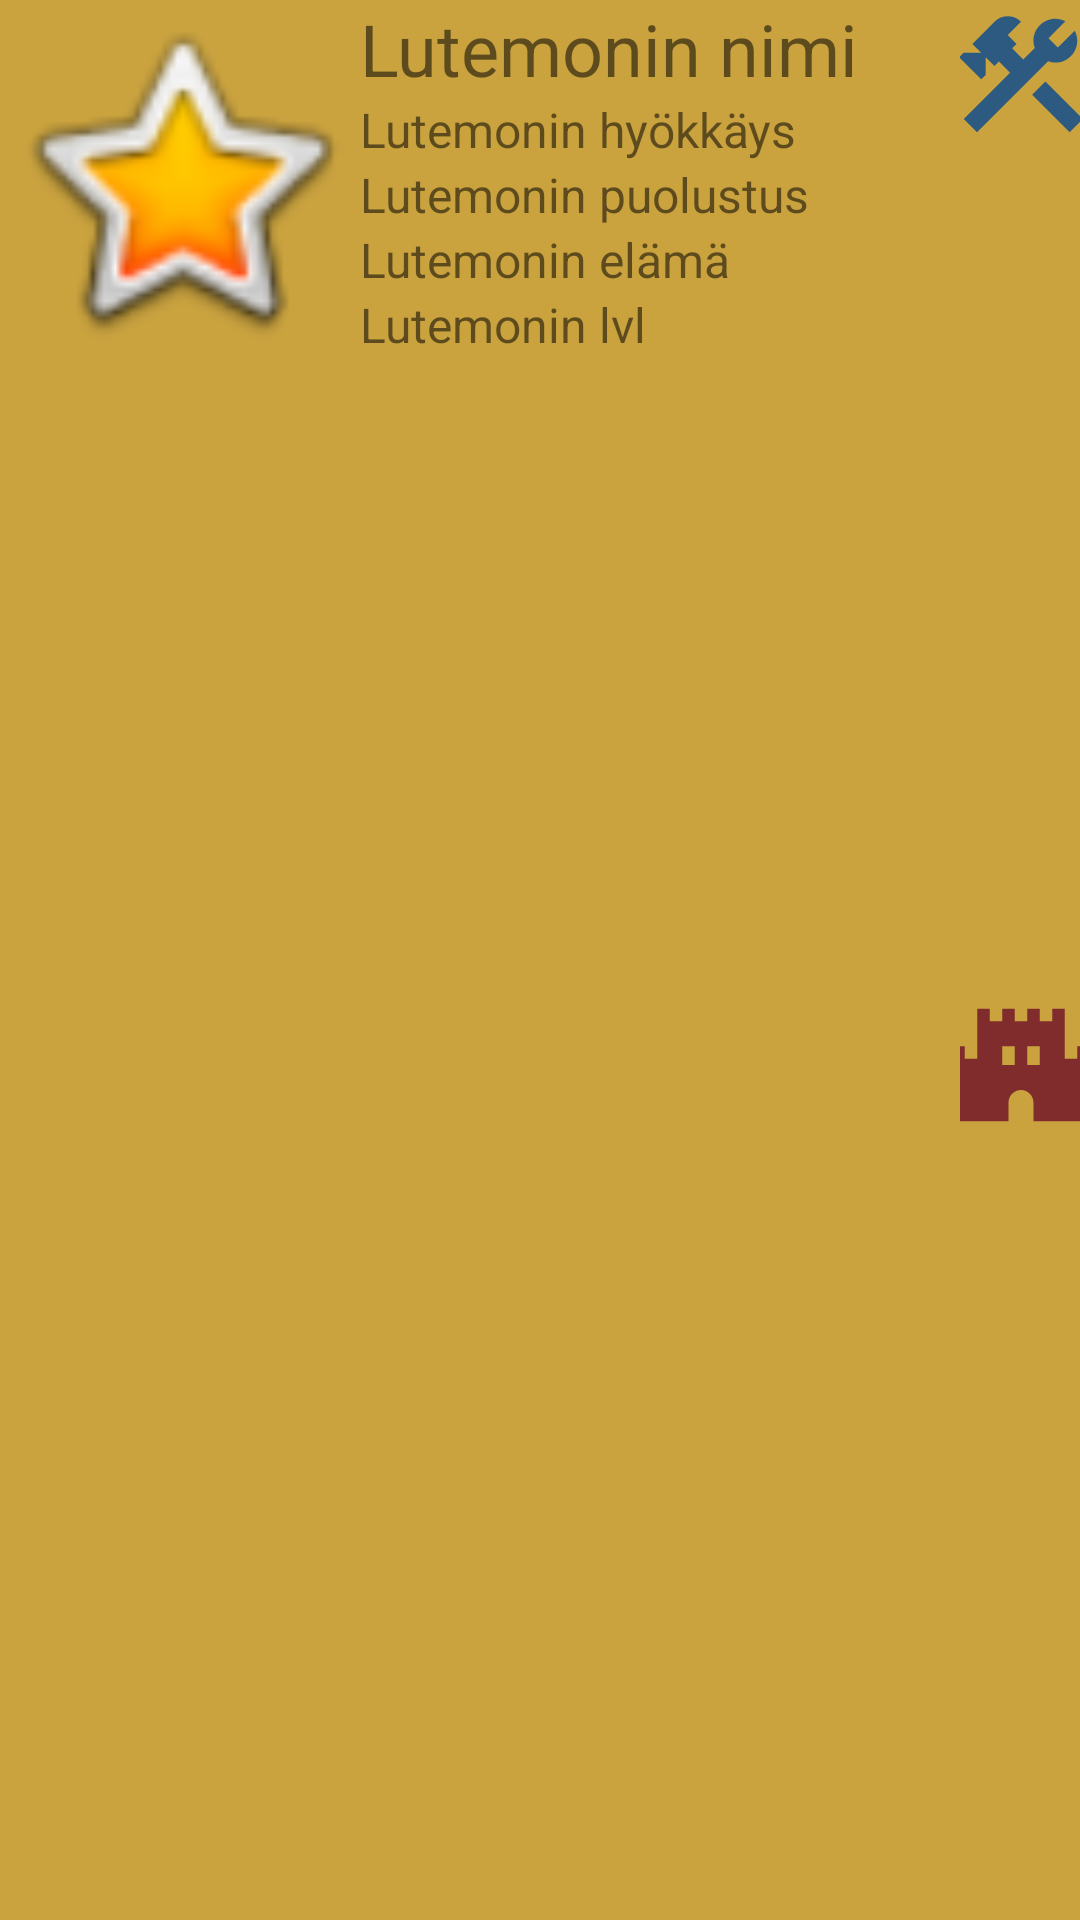

Screen size 1080w x 1920h. Icon name, then its center in pixels as (x,y):
star on: (183,182)
